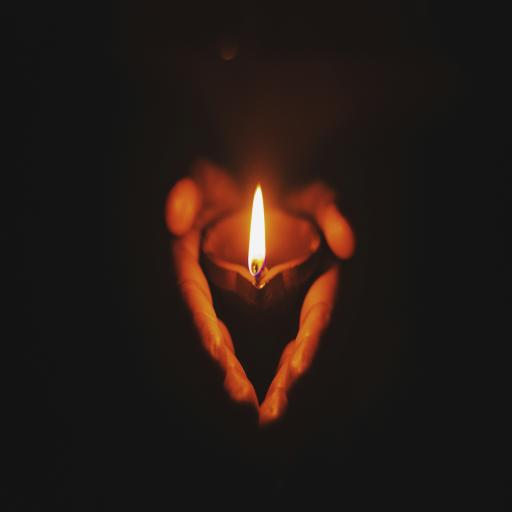candlelight: (210, 192, 324, 298)
